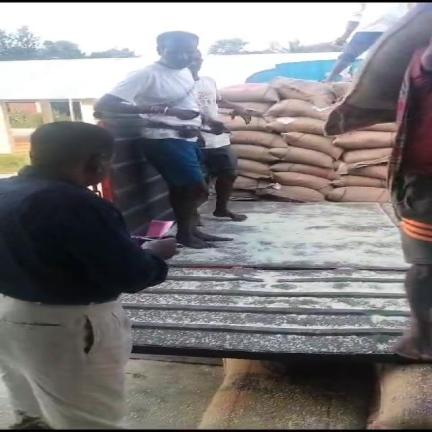Zone-Counting: (325, 3, 431, 360)
